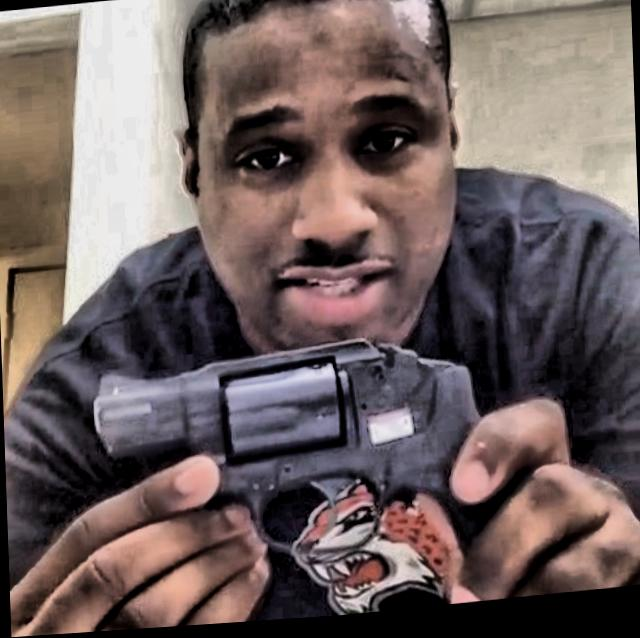pistol: (86, 319, 540, 632)
